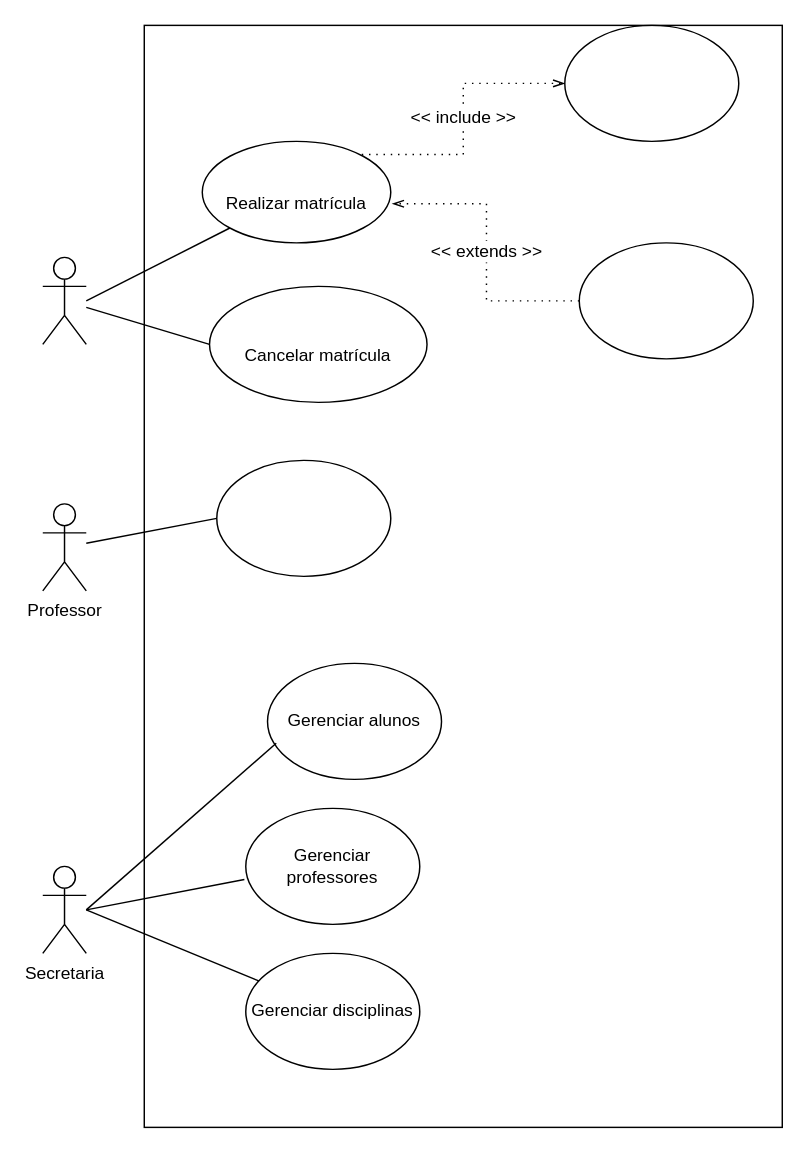
This 808x1153 diagram has some shape labels left out. The centre of each missing label's shape, as x and y in pixels:
Aluno: (x=63, y=300)
Matricular em disciplina obrigatória: (x=651, y=82)
Matricular em disciplina optativa: (x=665, y=300)
Visualizar alunos matriculados: (x=303, y=517)
